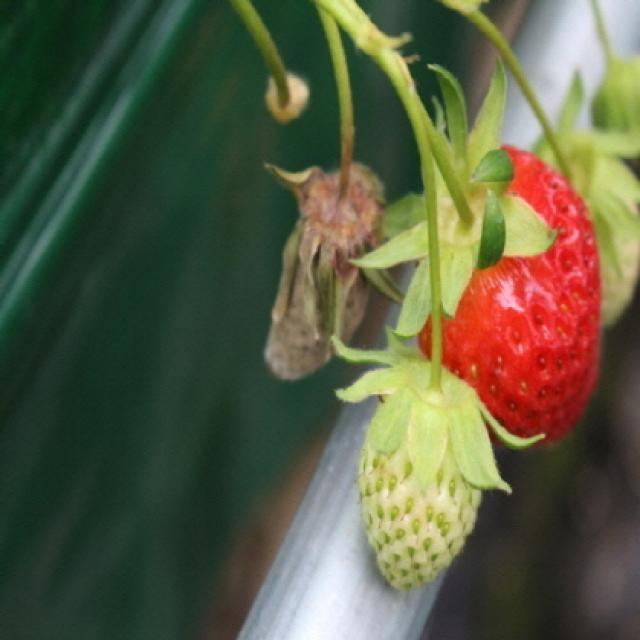Gray Mold: (261, 149, 406, 383)
